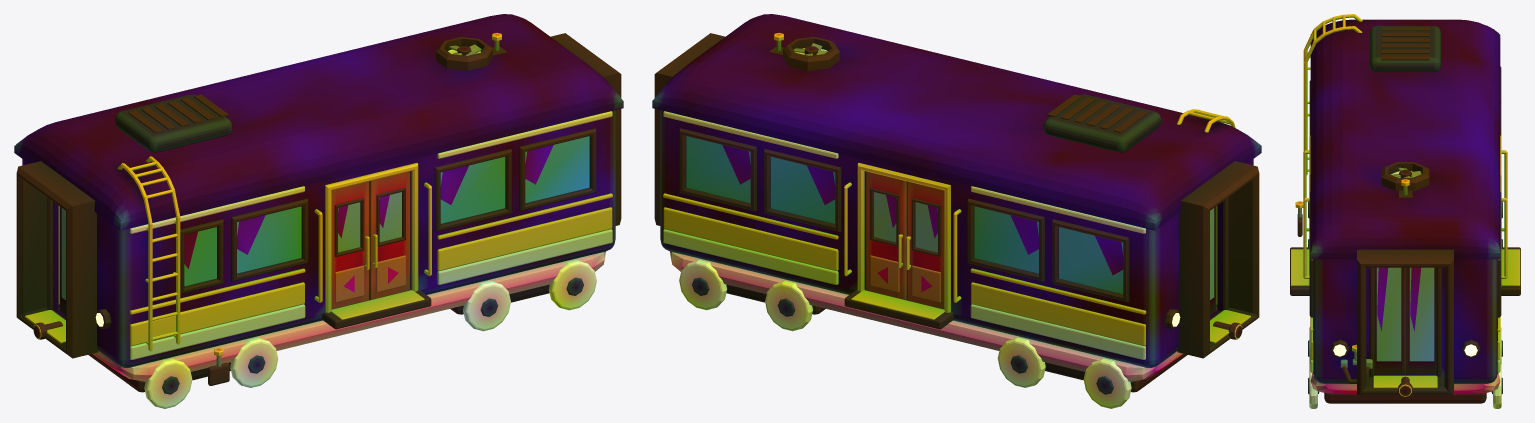
File: ModernCoach_Blockout.fbx
3 views of the same model, side by side, from view 1: azimuth 30°, elevation 25°; view 2: azimuth 150°, elevation 25°; view 3: azimuth 270°, elevation 25° (orthographic). The views are drawn at different scales.
Parts seen in each view (by area): view 1: Roof, Body, Windows, Livery, Ends, Underframe, SideDoorLeaf_R, SideDoorLeaf_L, SideDoorSill, RoofLadder, SideDoorFrame, EndDoorLeaf_R_Rear; view 2: Roof, Body, Windows, Livery, Underframe, Ends, SideDoorLeaf_R_Far, SideDoorLeaf_L_Far, SideDoorSill_Far, SideDoorFrame_Far, EndDoorLeaf_L_Rear; view 3: Roof, Body, Ends, EndDoorLeaf_L_Front, EndDoorLeaf_R_Front, Underframe, SideDoorSill, SideDoorSill_Far, RoofLadder, Windows, Livery, Coupler_Front.
Boxes of the visible parts, x1=… form: Roof: x1=14, y1=14, x2=623, y2=230; Body: x1=22, y1=110, x2=615, y2=367; Windows: x1=180, y1=128, x2=596, y2=294; Livery: x1=129, y1=111, x2=612, y2=359; Ends: x1=16, y1=33, x2=621, y2=358; Underframe: x1=88, y1=251, x2=605, y2=408; SideDoorLeaf_R: x1=369, y1=171, x2=410, y2=299; SideDoorLeaf_L: x1=331, y1=181, x2=369, y2=308; SideDoorSill: x1=314, y1=182, x2=431, y2=329; RoofLadder: x1=117, y1=156, x2=180, y2=351; SideDoorFrame: x1=325, y1=163, x2=418, y2=312; EndDoorLeaf_R_Rear: x1=58, y1=206, x2=65, y2=314; Roof: x1=652, y1=14, x2=1261, y2=230; Body: x1=660, y1=110, x2=1253, y2=367; Windows: x1=679, y1=128, x2=1129, y2=302; Livery: x1=663, y1=111, x2=1146, y2=359; Underframe: x1=670, y1=251, x2=1187, y2=408; Ends: x1=654, y1=33, x2=1259, y2=358; SideDoorLeaf_R_Far: x1=865, y1=171, x2=906, y2=299; SideDoorLeaf_L_Far: x1=906, y1=181, x2=944, y2=308; SideDoorSill_Far: x1=844, y1=182, x2=961, y2=329; SideDoorFrame_Far: x1=857, y1=163, x2=950, y2=312; EndDoorLeaf_L_Rear: x1=1210, y1=206, x2=1217, y2=314; Roof: x1=1310, y1=19, x2=1500, y2=259; Body: x1=1313, y1=259, x2=1497, y2=383; Ends: x1=1330, y1=249, x2=1480, y2=394; EndDoorLeaf_L_Front: x1=1374, y1=267, x2=1405, y2=374; EndDoorLeaf_R_Front: x1=1405, y1=267, x2=1436, y2=374; Underframe: x1=1308, y1=202, x2=1502, y2=408; SideDoorSill: x1=1290, y1=150, x2=1309, y2=295; SideDoorSill_Far: x1=1501, y1=150, x2=1520, y2=295; RoofLadder: x1=1303, y1=14, x2=1362, y2=174; Windows: x1=1309, y1=66, x2=1501, y2=317; Livery: x1=1310, y1=259, x2=1500, y2=372; Coupler_Front: x1=1398, y1=376, x2=1412, y2=396.
Bounding box in the file's own units: 8.16 × 3.33 × 3.24.
